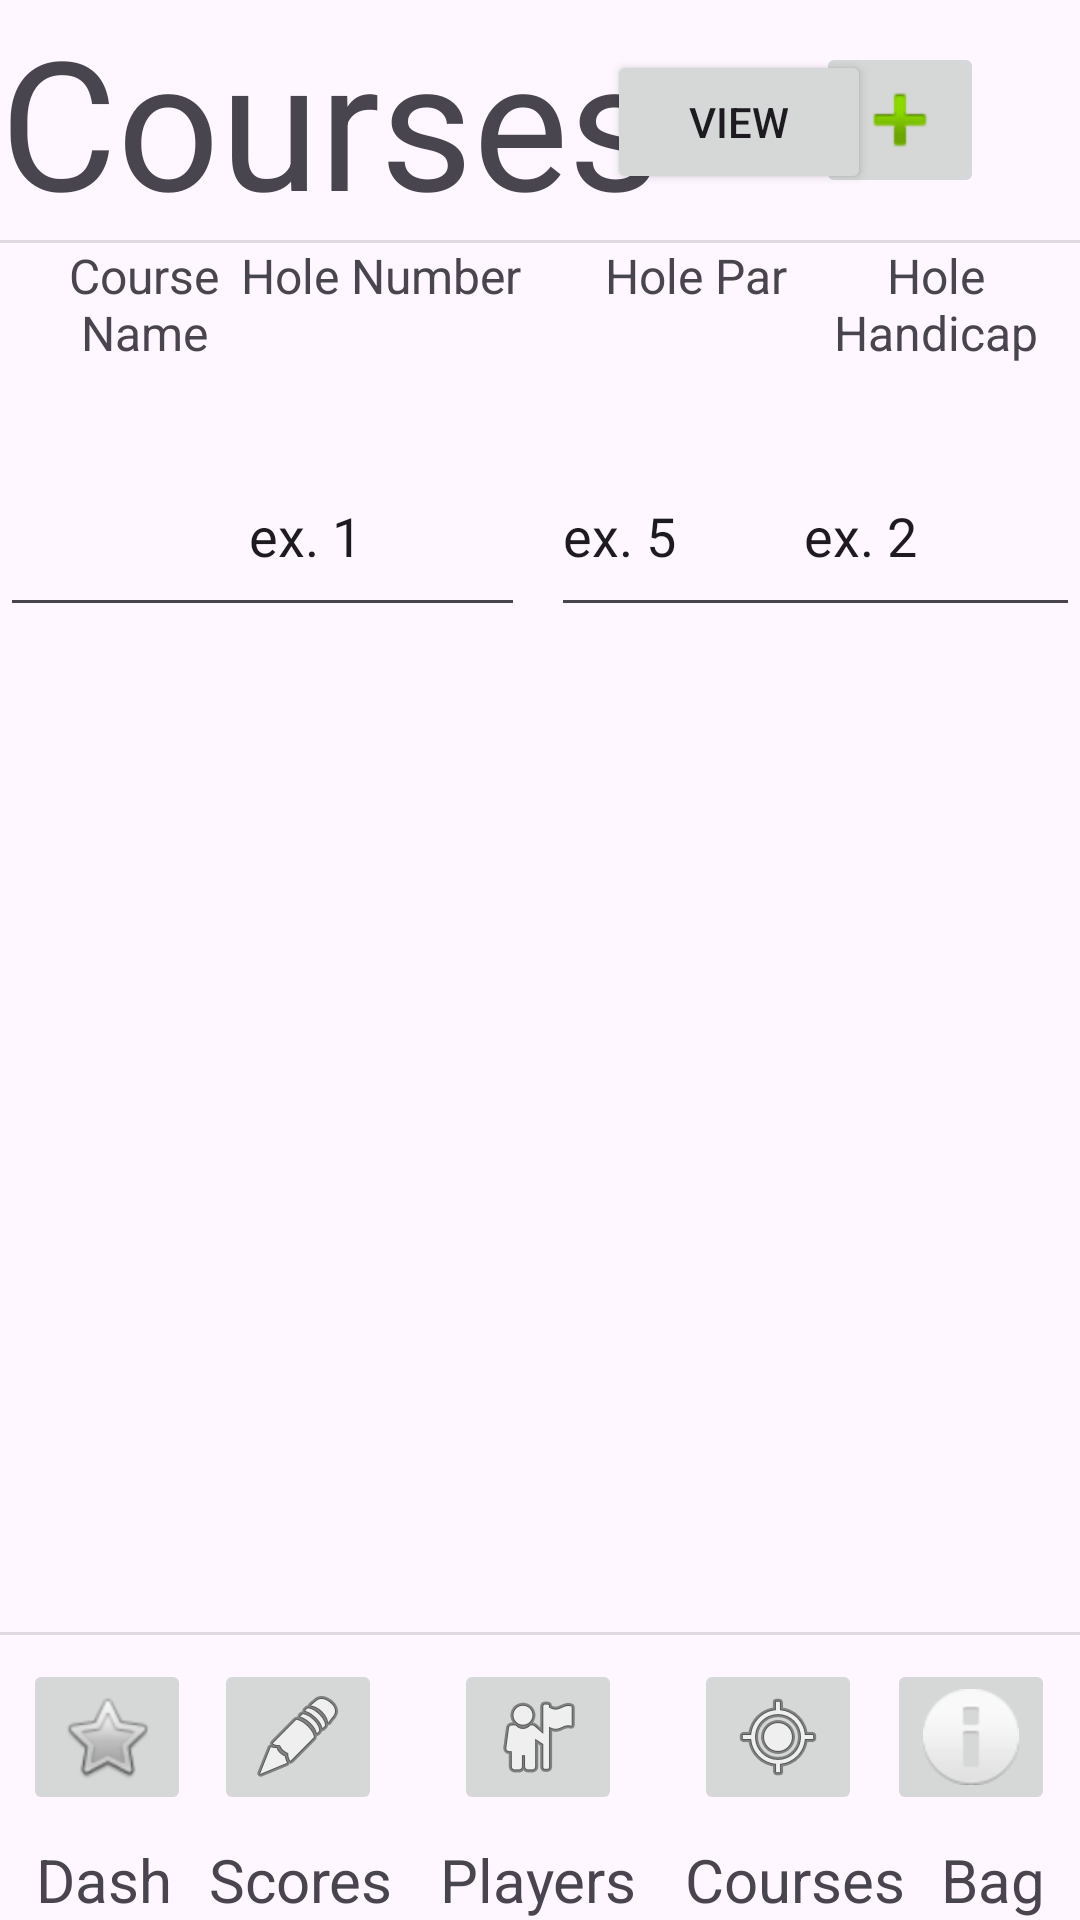

Screen size 1080 x 1920. Icon name, then its box in pixels as (x1, y1, x2, y2):
edit: (226, 1677, 370, 1797)
info: (899, 1677, 1043, 1797)
mylocation: (706, 1677, 850, 1797)
myplaces: (466, 1677, 610, 1797)
star: (35, 1677, 179, 1797)
